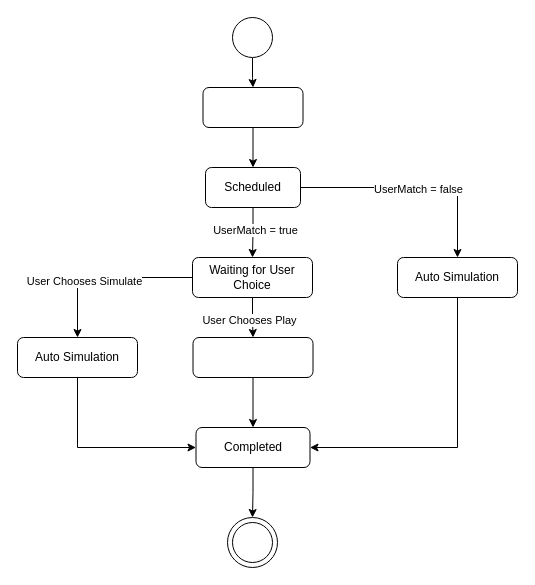
Some shapes in this 535 by 585 pixel diagram are drawn without their labels. Here are the shapes that lost their labels. From the top down, the centre of each, then its label:
At [252,107]: "Generated".
At [252,357]: "Being Played".
